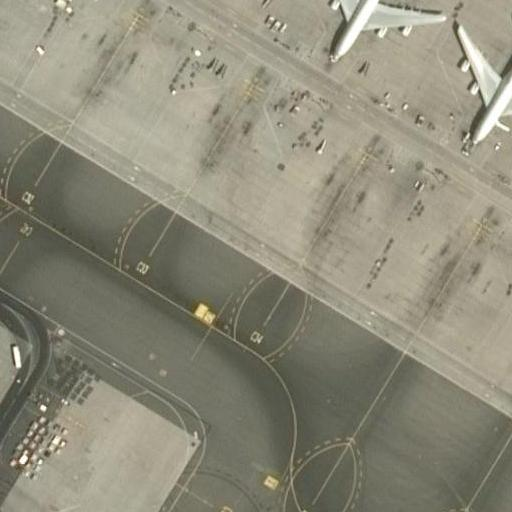Aircraft: (448, 9, 512, 149), (311, 0, 445, 59)
